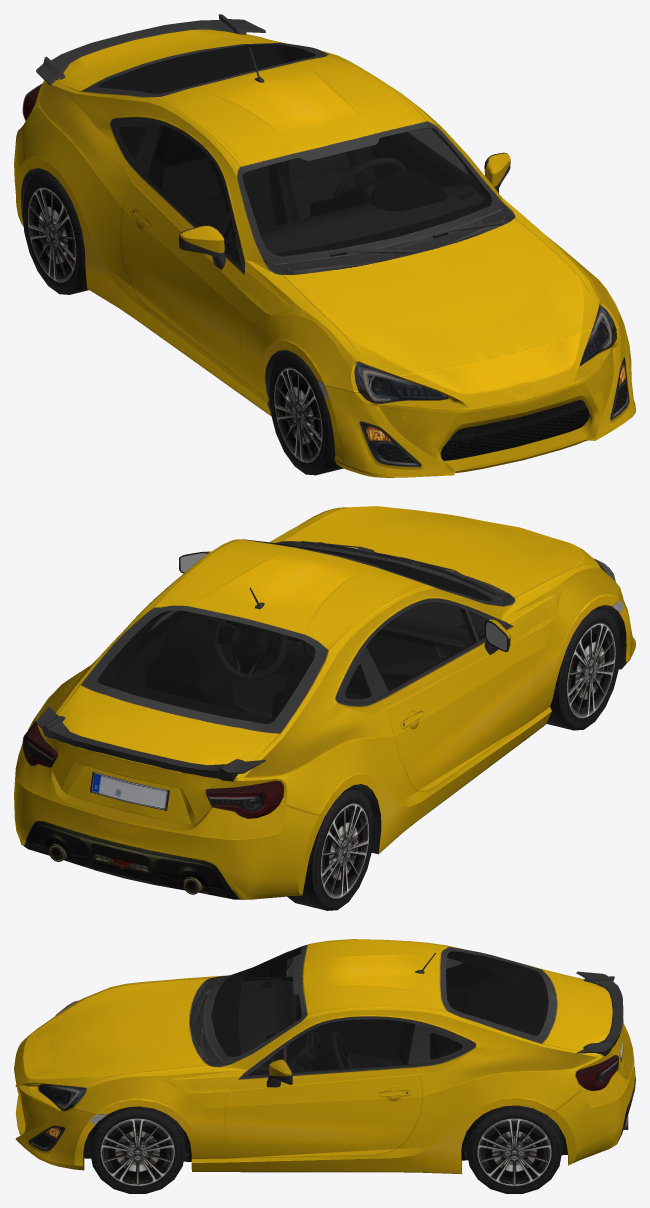
The model's file is car_4.FBX.
3 renders of one model, top to bottom at view 1: azimuth 30°, elevation 25°; view 2: azimuth 150°, elevation 25°; view 3: azimuth 270°, elevation 25°, orthographic. The views are drawn at different scales.
Visible parts, largest first — view 1: Body, Wheel_FR, Wheel_BR; view 2: Body, Wheel_BR, Wheel_FR; view 3: Body, Wheel_BL, Wheel_FL.
Boxes of the visible parts, bbox=[...] form: Body: bbox=[14, 14, 635, 477]; Wheel_FR: bbox=[269, 352, 343, 475]; Wheel_BR: bbox=[22, 171, 88, 294]; Body: bbox=[14, 506, 635, 899]; Wheel_BR: bbox=[287, 787, 374, 910]; Wheel_FR: bbox=[546, 607, 620, 730]; Body: bbox=[14, 939, 635, 1174]; Wheel_BL: bbox=[466, 1105, 562, 1193]; Wheel_FL: bbox=[90, 1106, 185, 1193].
Bounding box in the file's own units: 62.65 × 44.64 × 134.
5 materials, 3 textured.
